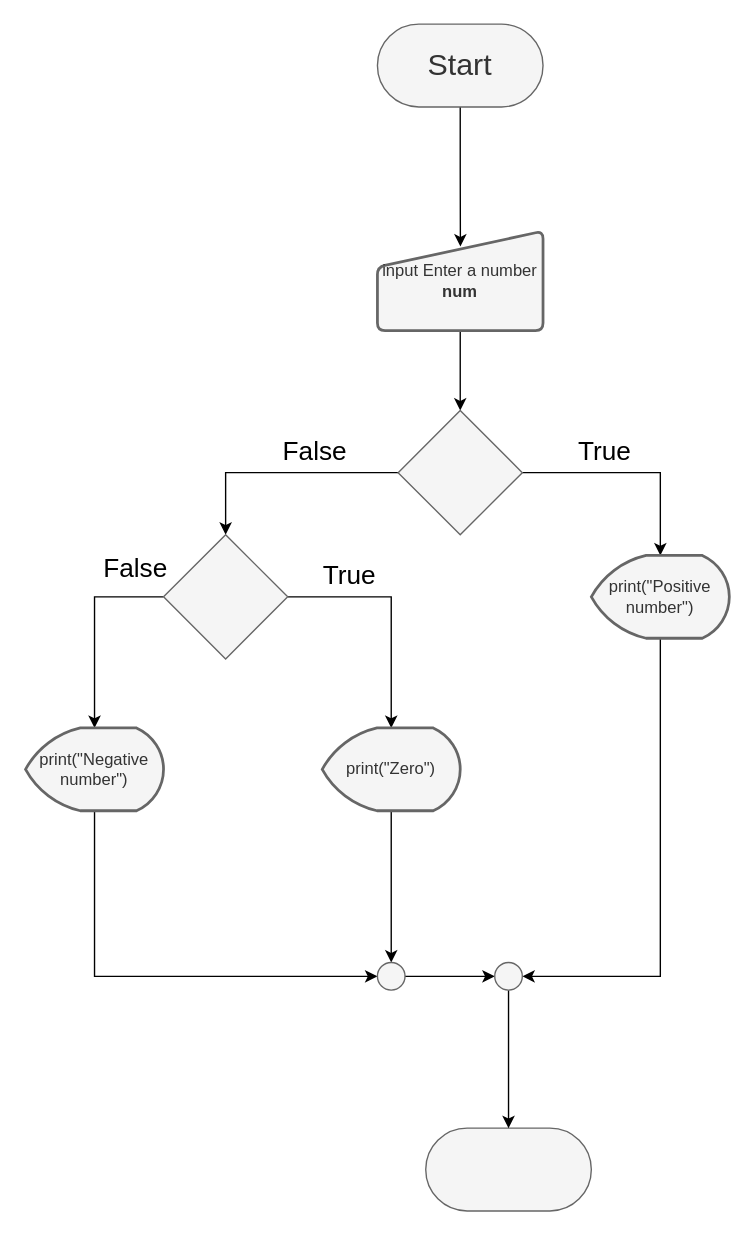
Image size: 753x1235. Some labels were removed from this diagram. The shapes that lost their labels are listed below. From the top down, each one's centre as x and y in pixels, then its label:
[459,472]: num >=0
[225,596]: num ==0
[507,1169]: End
